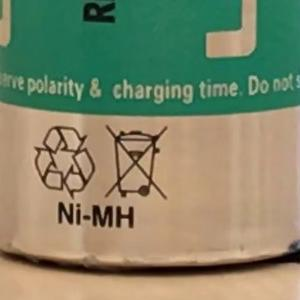NI-MH: (48, 196, 144, 235)
